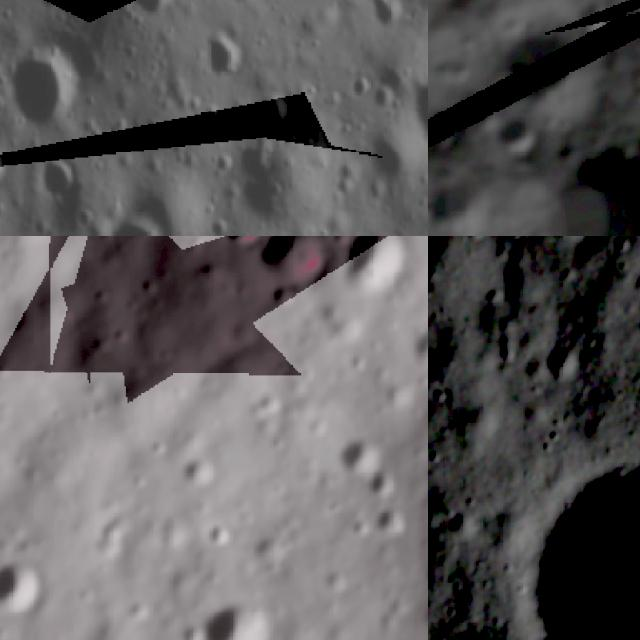crater: (489, 456, 640, 640), (472, 2, 628, 152), (499, 94, 640, 236), (8, 56, 97, 132), (428, 159, 503, 236), (341, 236, 413, 295), (531, 338, 590, 402), (193, 600, 285, 640), (260, 236, 332, 287), (486, 106, 544, 165), (0, 555, 47, 620), (334, 421, 384, 479), (203, 25, 245, 92), (37, 159, 91, 199), (175, 450, 224, 493), (408, 62, 428, 159), (109, 207, 160, 236), (402, 322, 428, 376), (373, 502, 408, 540), (366, 463, 398, 503), (118, 0, 178, 21), (249, 388, 283, 425), (202, 516, 234, 554), (122, 598, 156, 622), (217, 236, 269, 249)
